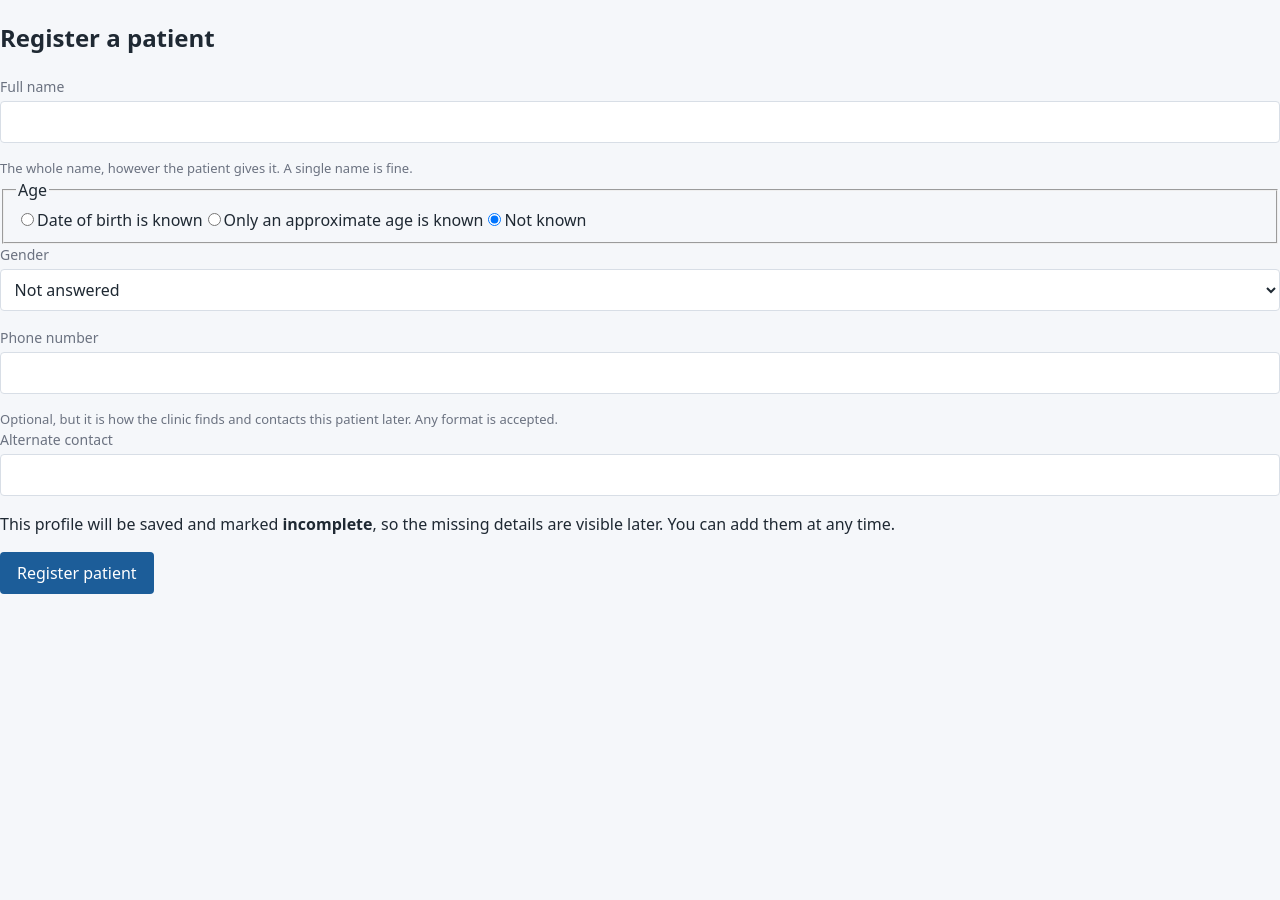
Test case: PatientForm duplicate handling (F-6) › closes the dialog and keeps every typed character when the warning is dismissed
The width and height of the screenshot is (1280, 900).
Type "Ravi Kumar" into the field labelled "Full name" at {"x": 640, "y": 122}, box [0, 101, 1279, 143]
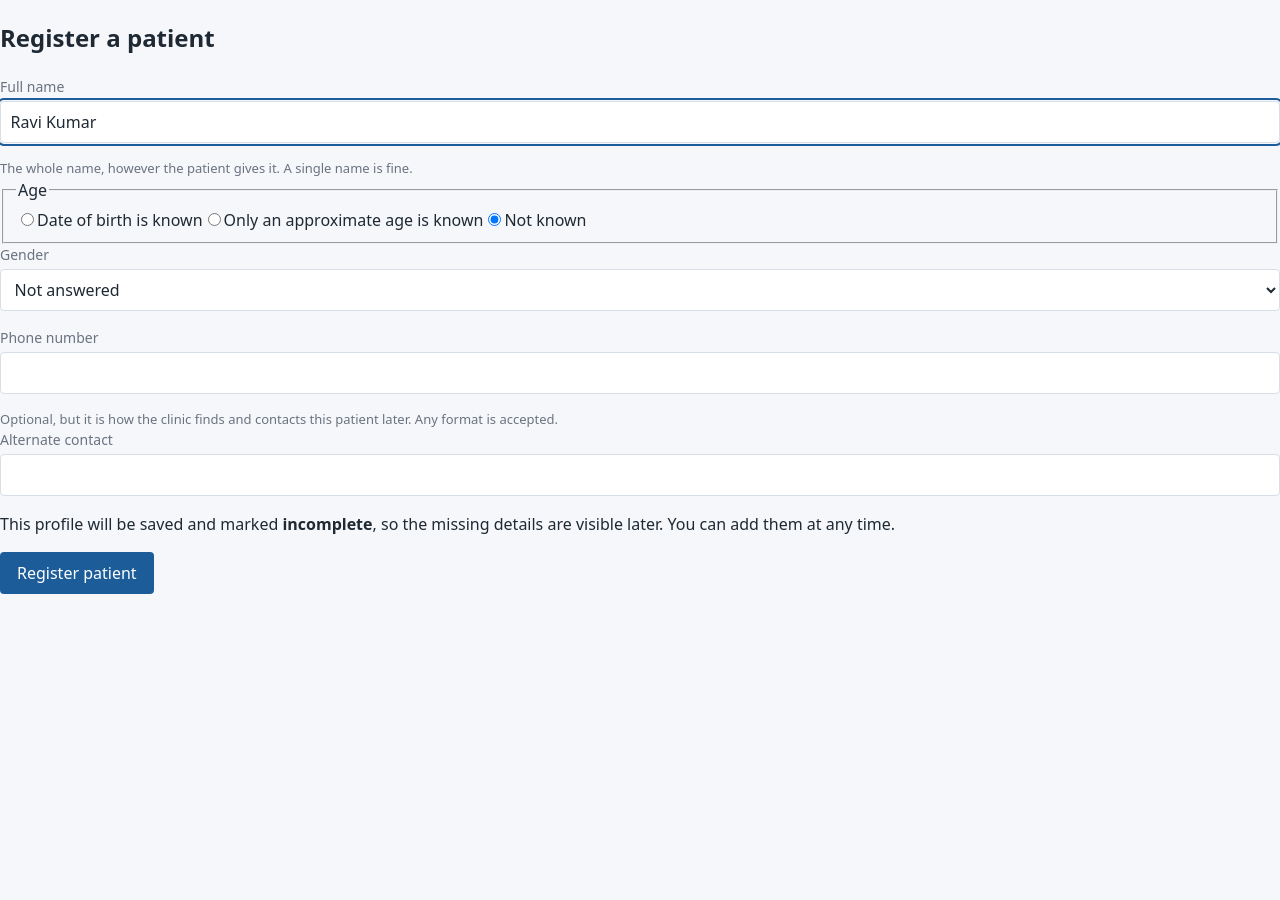
Type "98765 43210" into the field labelled "Phone number" at {"x": 640, "y": 373}, box [0, 352, 1279, 394]
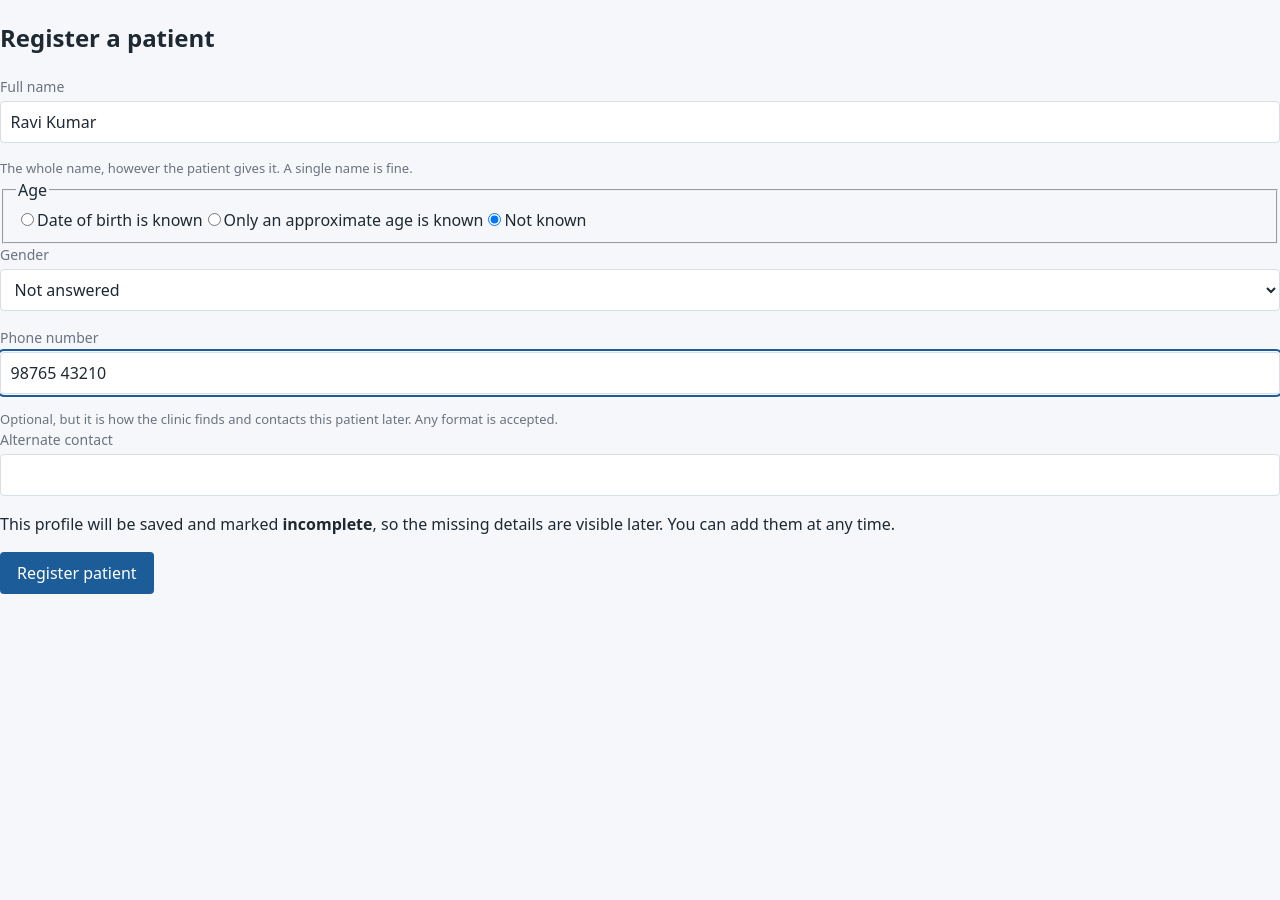
Click the button "Register patient" at {"x": 77, "y": 573}, box [0, 552, 154, 594]
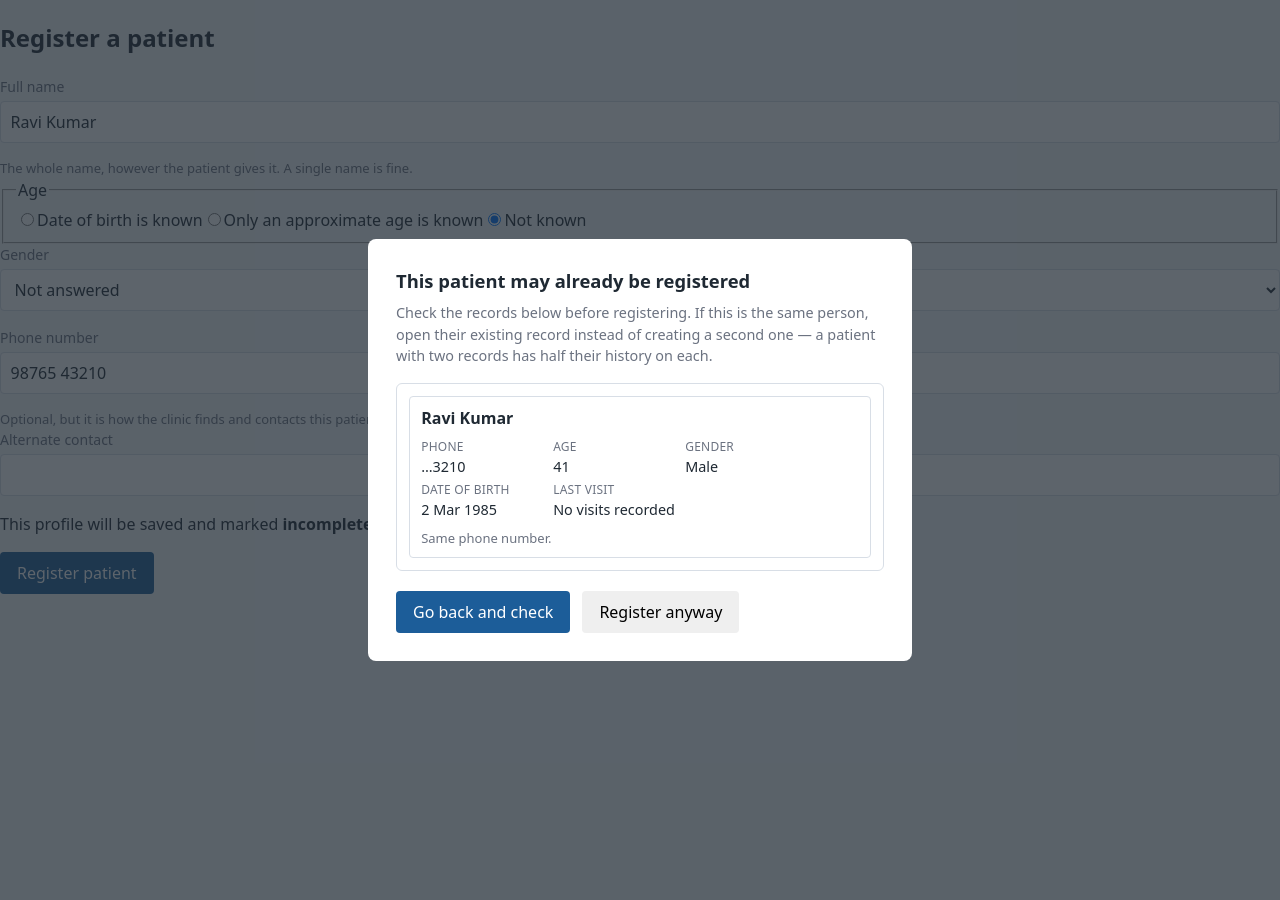
Expected: the dialog is shown
Click the button "Go back and check" at {"x": 483, "y": 612}, box [396, 591, 570, 633]
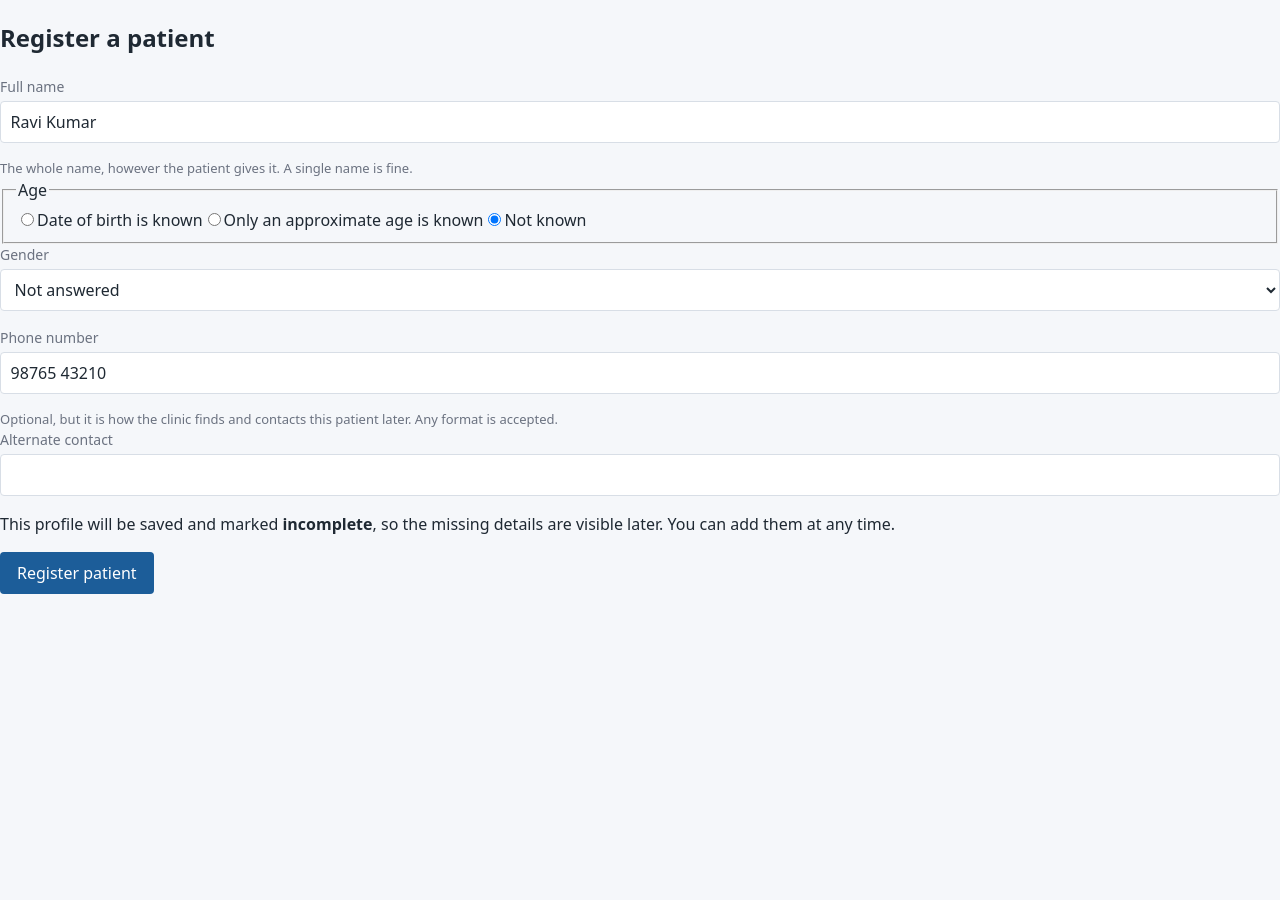
Expected: the dialog is gone
